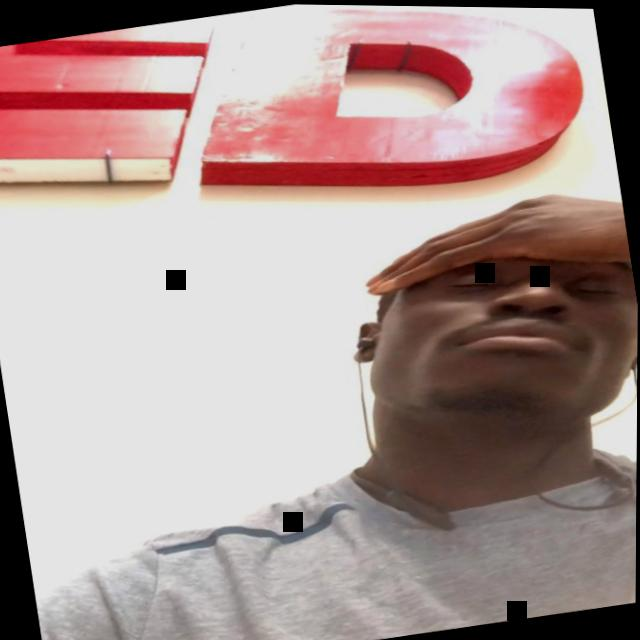NO-Mask: (362, 199, 639, 448)
